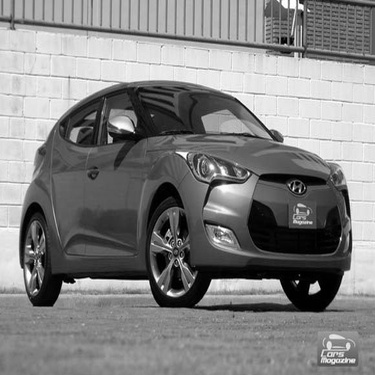car: (13, 75, 357, 315)
